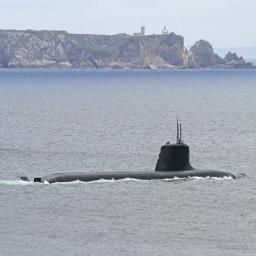submarine: (24, 143, 240, 182)
